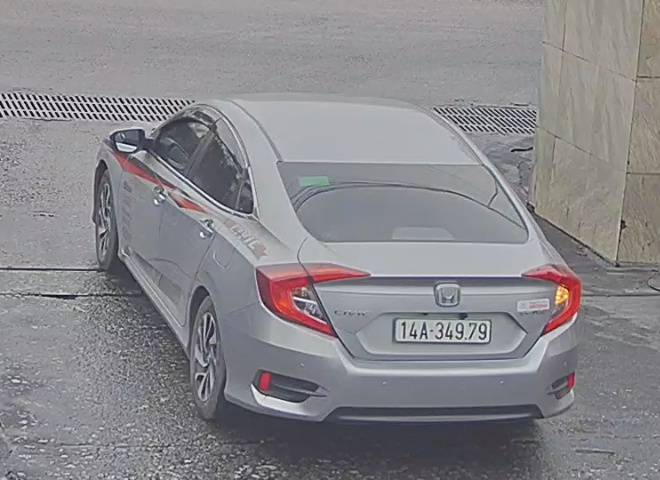vehicle plate: (389, 313, 498, 346)
